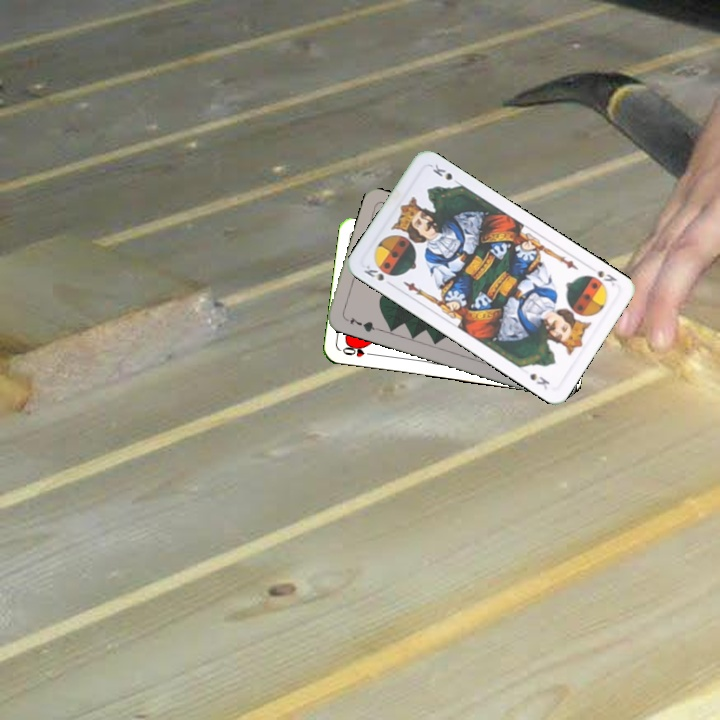G7: (346, 313, 380, 335)
HO: (338, 342, 378, 360)
SK: (360, 260, 387, 284), (593, 266, 620, 289)
